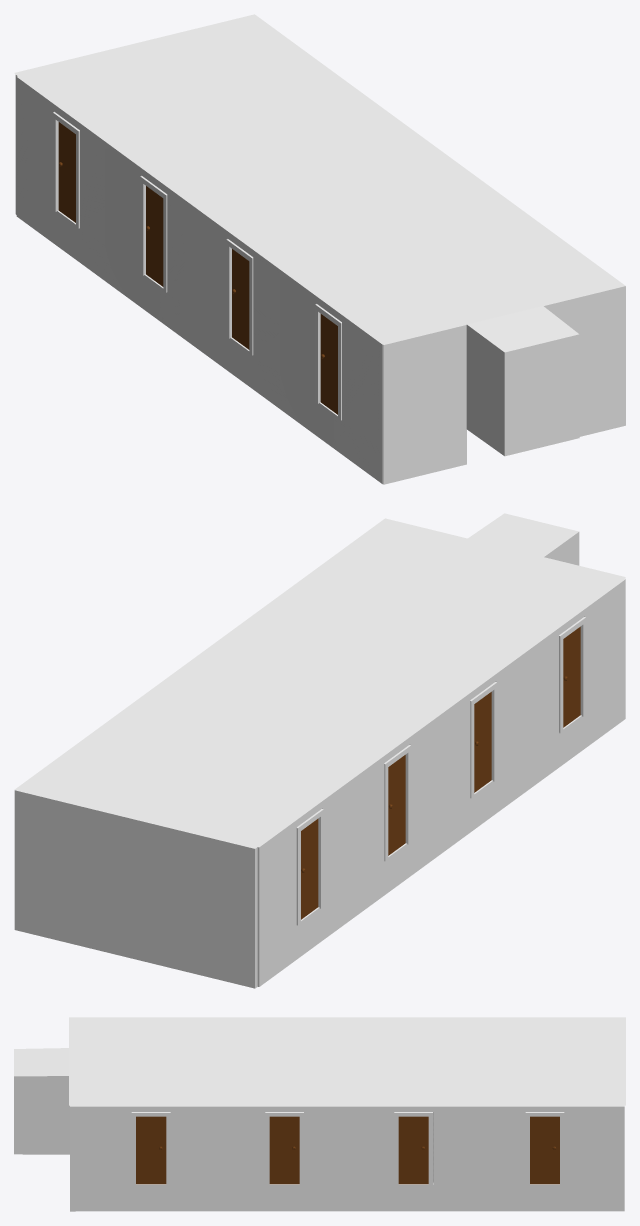
Rendered from floor1.fbx.
The picture shows the model from 3 angles, top to bottom: view 1: azimuth 30°, elevation 25°; view 2: azimuth 150°, elevation 25°; view 3: azimuth 270°, elevation 25°; orthographic projection. The views are drawn at different scales.
Visible parts, largest first — view 1: Techo.001, Pared.020, Ascensor.003, Pared.017, Pared.018, Puerta.013, Puerta.016, Puerta.015, Puerta.014; view 2: Techo.001, Pared.020, Pared.021, Ascensor.003, Puerta.014, Puerta.016, Puerta.013, Puerta.015; view 3: Pared.019, Techo.001, Ascensor.003, Puerta.017, Puerta.018, Puerta.020, Puerta.019, Pared.018, Pared.021.
Boxes of the visible parts, x1=… form: Techo.001: x1=14, y1=14, x2=625, y2=344; Pared.020: x1=16, y1=76, x2=383, y2=484; Ascensor.003: x1=466, y1=306, x2=579, y2=456; Pared.017: x1=381, y1=324, x2=466, y2=484; Pared.018: x1=544, y1=286, x2=625, y2=436; Puerta.013: x1=232, y1=249, x2=249, y2=349; Puerta.016: x1=146, y1=186, x2=163, y2=286; Puerta.015: x1=58, y1=122, x2=75, y2=222; Puerta.014: x1=320, y1=314, x2=337, y2=414; Techo.001: x1=14, y1=518, x2=625, y2=848; Pared.020: x1=257, y1=579, x2=625, y2=986; Pared.021: x1=14, y1=790, x2=258, y2=988; Ascensor.003: x1=468, y1=513, x2=579, y2=565; Puerta.014: x1=563, y1=626, x2=580, y2=727; Puerta.016: x1=388, y1=755, x2=405, y2=855; Puerta.013: x1=474, y1=692, x2=491, y2=792; Puerta.015: x1=301, y1=819, x2=318, y2=919; Pared.019: x1=75, y1=1105, x2=620, y2=1211; Techo.001: x1=69, y1=1017, x2=625, y2=1105; Ascensor.003: x1=14, y1=1048, x2=69, y2=1154; Puerta.017: x1=269, y1=1116, x2=299, y2=1184; Puerta.018: x1=136, y1=1116, x2=166, y2=1184; Puerta.020: x1=398, y1=1116, x2=428, y2=1184; Puerta.019: x1=530, y1=1116, x2=559, y2=1184; Pared.018: x1=70, y1=1105, x2=75, y2=1211; Pared.021: x1=619, y1=1105, x2=624, y2=1211.
Size of the model in its own units: 728 by 399 by 2098.
